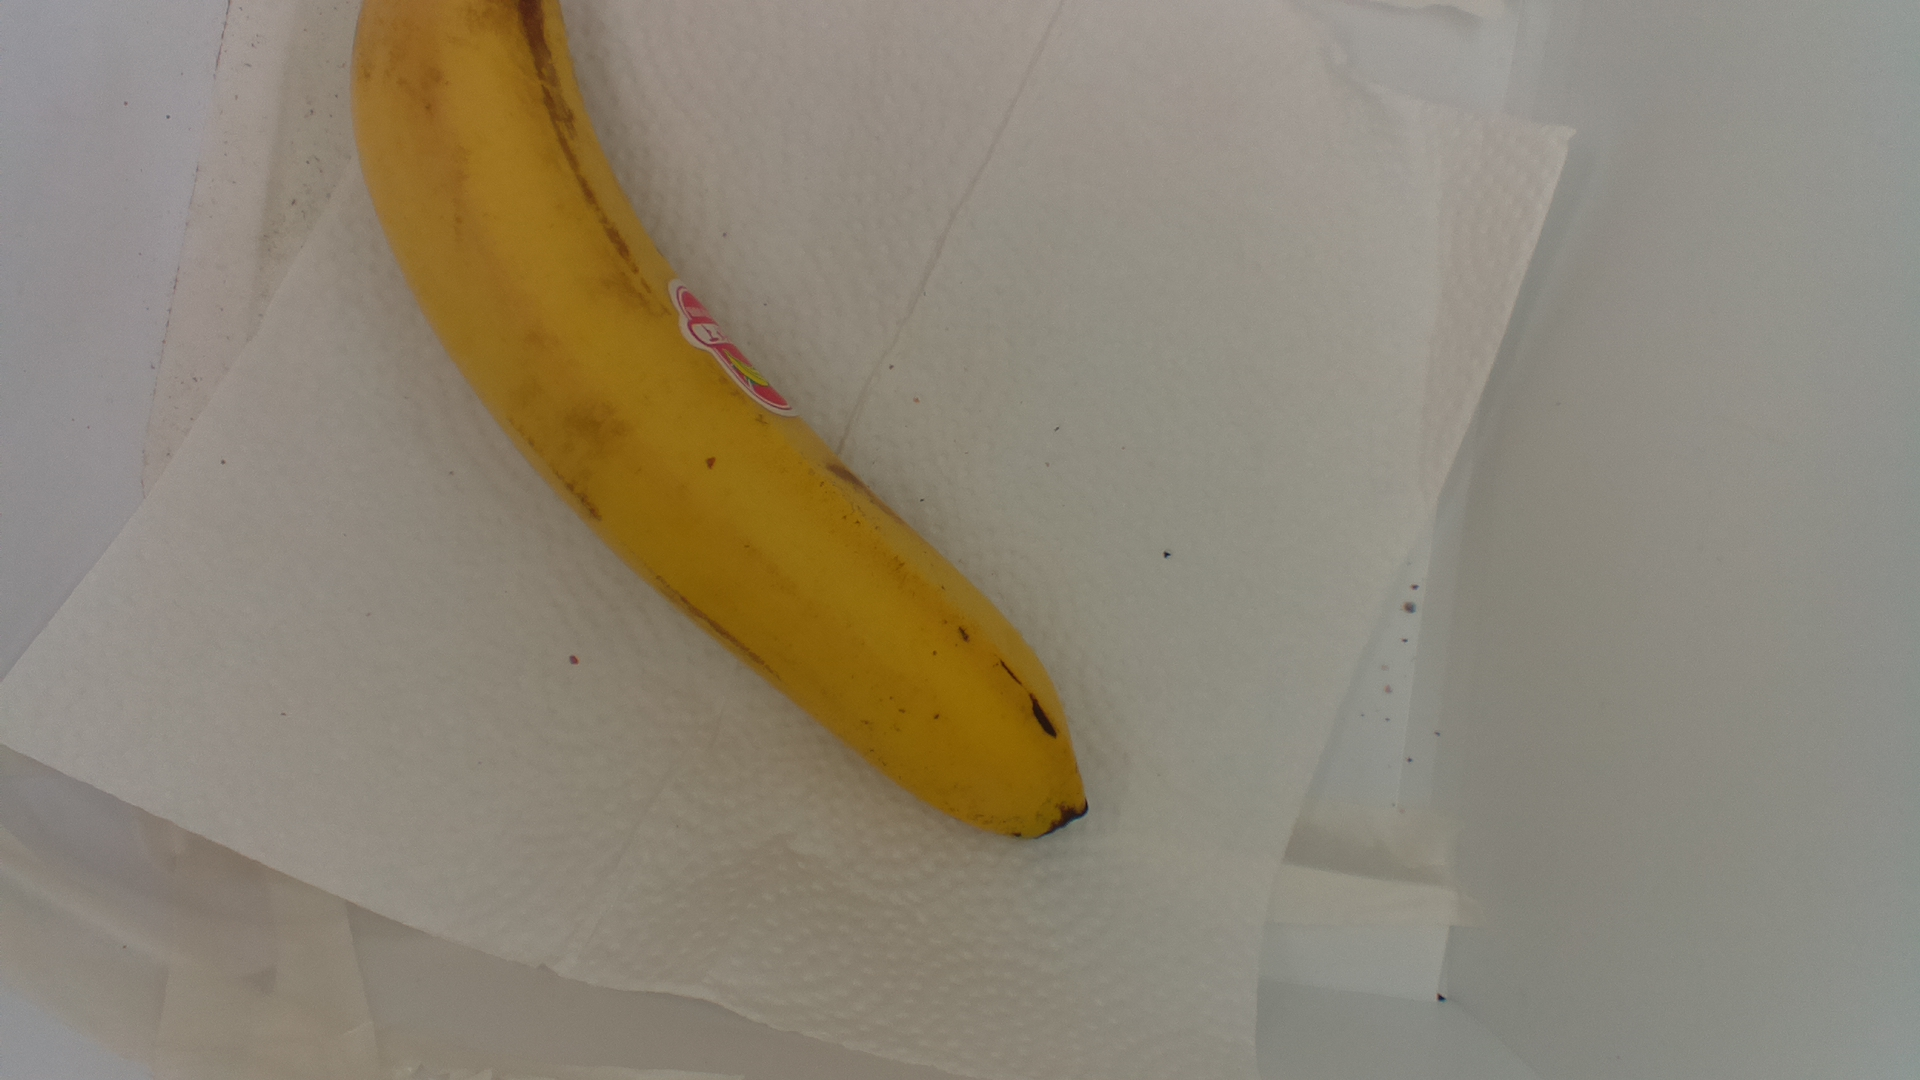fruit: (342, 1, 1106, 848)
